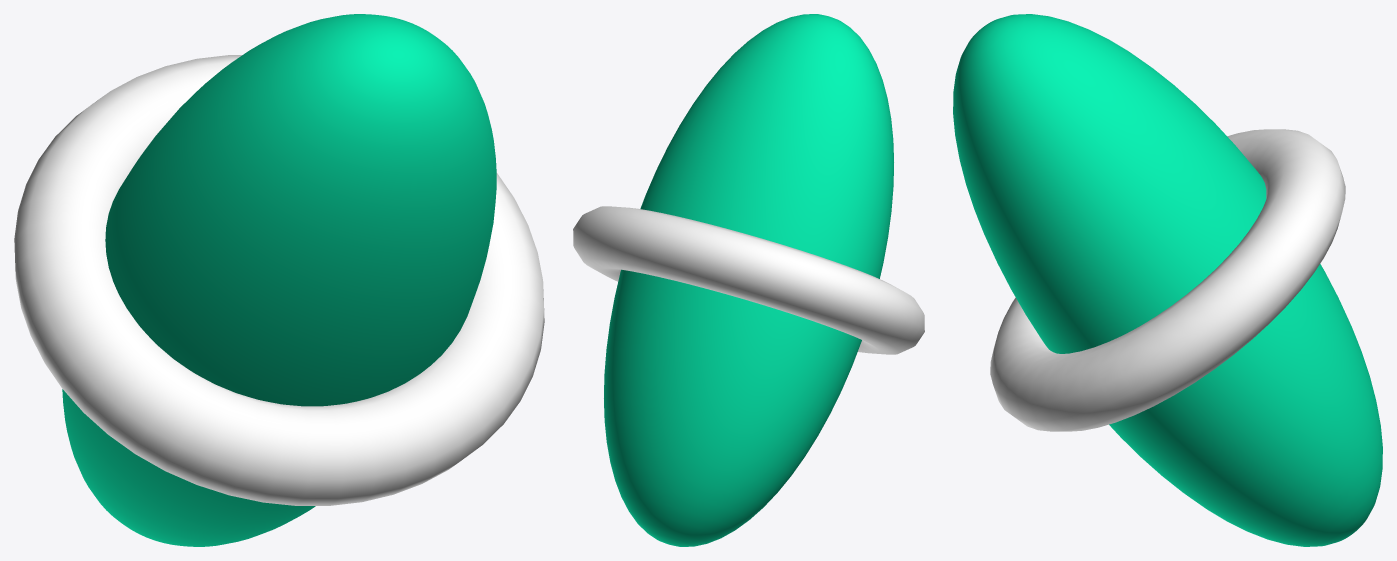
Rendered from left_arm.obj.
3 views of the same model, side by side, from view 1: azimuth 30°, elevation 25°; view 2: azimuth 150°, elevation 25°; view 3: azimuth 270°, elevation 25° (orthographic). The views are drawn at different scales.
Parts seen in each view (by area): view 1: トーラス.001; view 2: トーラス.001; view 3: トーラス.001.
Boxes of the visible parts, left/top/right/bottom form: トーラス.001: left=14, top=14, right=544, bottom=546; トーラス.001: left=573, top=14, right=924, bottom=546; トーラス.001: left=953, top=14, right=1382, bottom=546.
Bounding box in the file's own units: 2.01 × 2.58 × 1.96.
